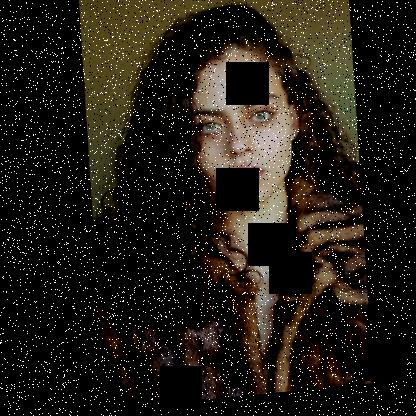Female: (179, 52, 302, 218)
